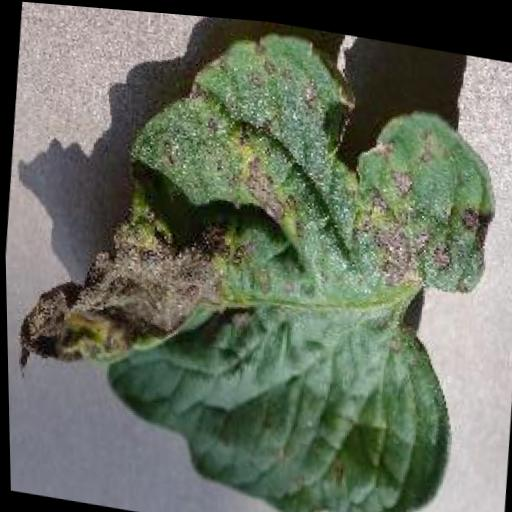Early Blight: (0, 0, 510, 512)
